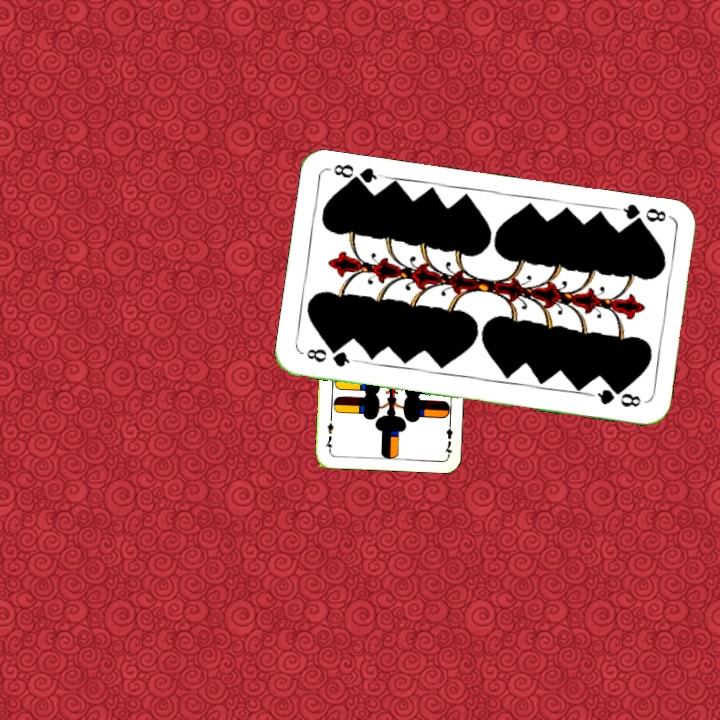E7: (441, 416, 455, 457)
G8: (613, 200, 672, 230), (302, 344, 358, 370)
